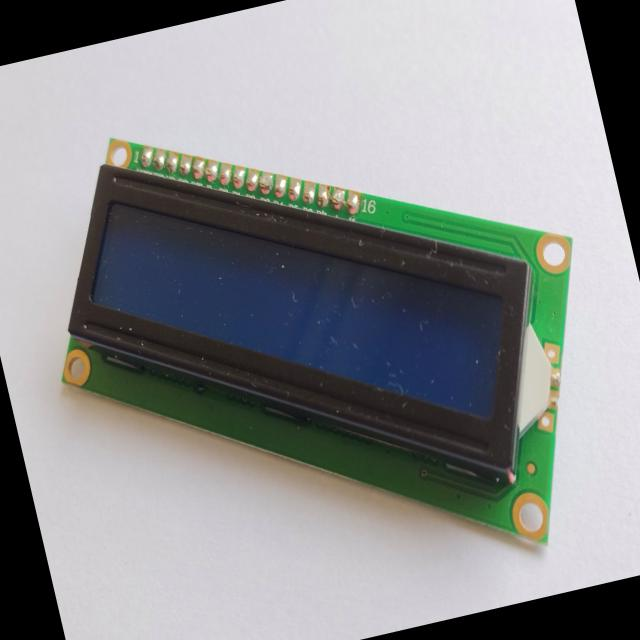lcd: (9, 40, 639, 640)
